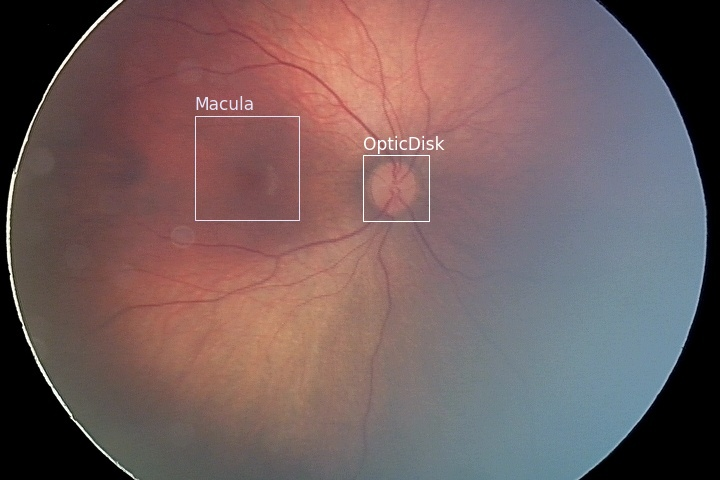Macula: (194, 115, 298, 219)
OpticDisk: (362, 154, 428, 220)
